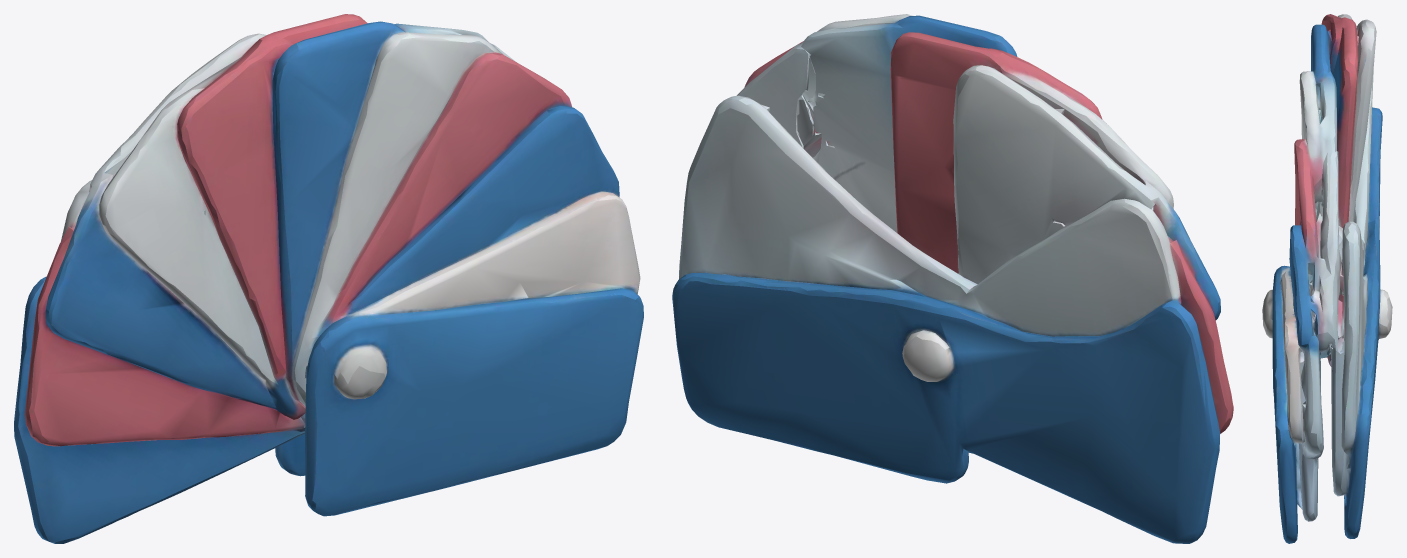
The model's file is i_style.glb.
3 renders of one model, left to right at view 1: azimuth 30°, elevation 25°; view 2: azimuth 150°, elevation 25°; view 3: azimuth 270°, elevation 25°, orthographic. The views are drawn at different scales.
Parts seen in each view (by area): view 1: geometry_0; view 2: geometry_0; view 3: geometry_0.
Boxes of the visible parts, x1=… form: geometry_0: x1=14, y1=14, x2=643, y2=543; geometry_0: x1=672, y1=14, x2=1233, y2=543; geometry_0: x1=1262, y1=14, x2=1392, y2=543.
Size of the model in its own units: 0.18 by 0.1349 by 0.0399.
Materials: 1 (1 with a texture image).
